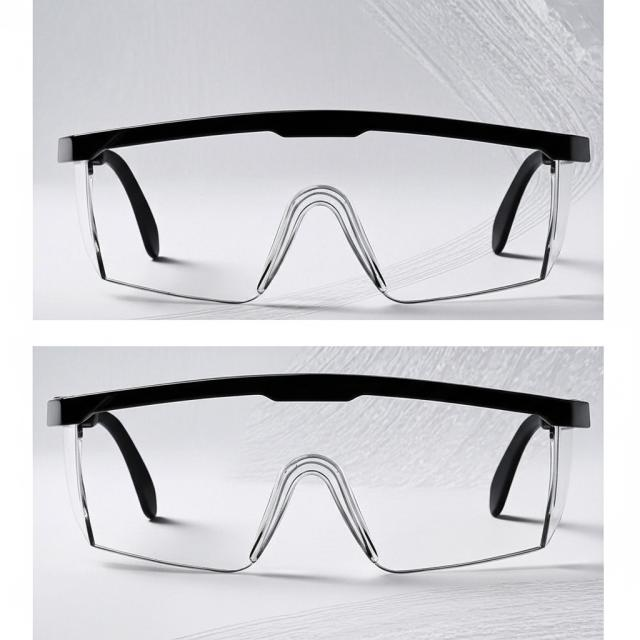oculos-epi: (47, 374, 589, 572), (58, 110, 589, 303)
